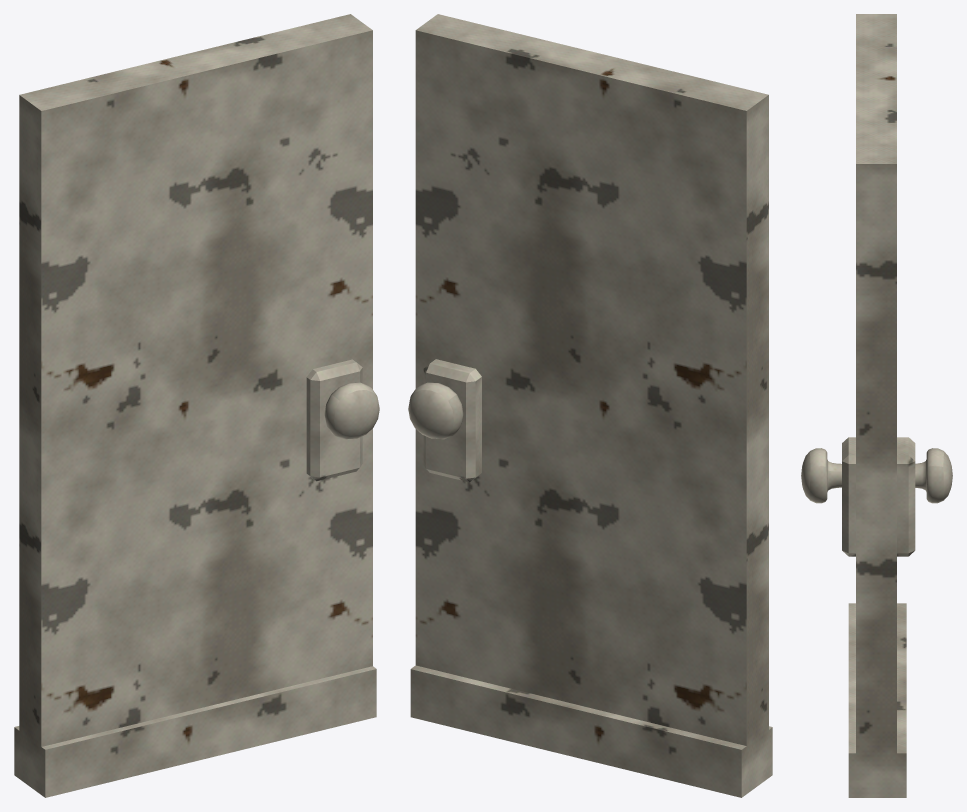
File: Door.fbx
3 views of the same model, side by side, from view 1: azimuth 30°, elevation 25°; view 2: azimuth 150°, elevation 25°; view 3: azimuth 270°, elevation 25° (orthographic). The views are drawn at different scales.
Visible parts, largest first — view 1: Door; view 2: Door; view 3: Door.
Part boxes in pixels (x1,y1,x2,y2): Door: [14, 14, 379, 797]; Door: [408, 14, 772, 797]; Door: [801, 14, 952, 797].
Size of the model in its own units: 1.08 by 2.13 by 0.4611.
1 material, 1 textured.
